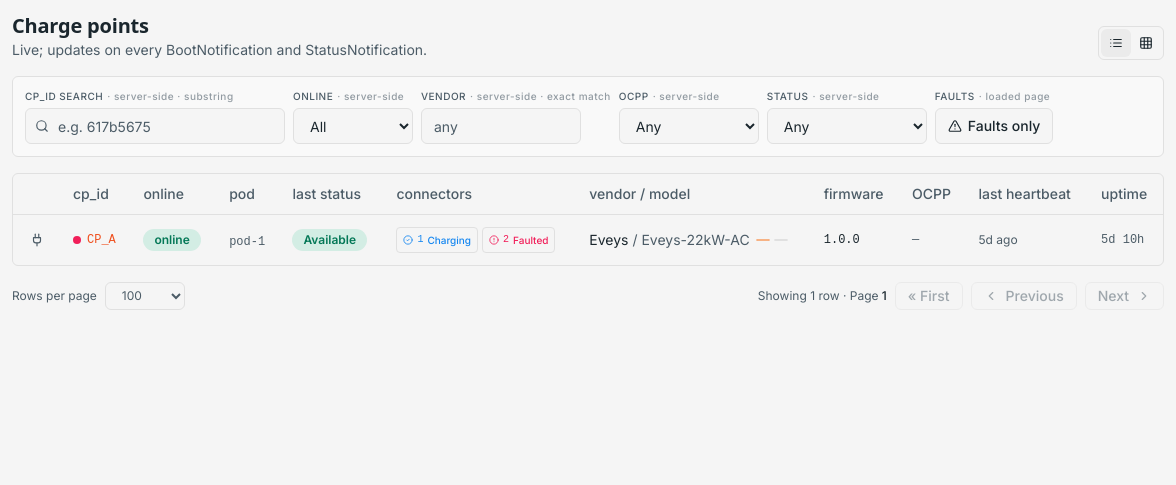
Test: FleetPage — table-row connector drill-down › expanding a row reveals connector detail
Check: the text "GroundFailure" is not shown
The expand button has aria-label "Expand"
Click the button named "expand" at {"x": 37, "y": 240}, box [25,228,49,252]
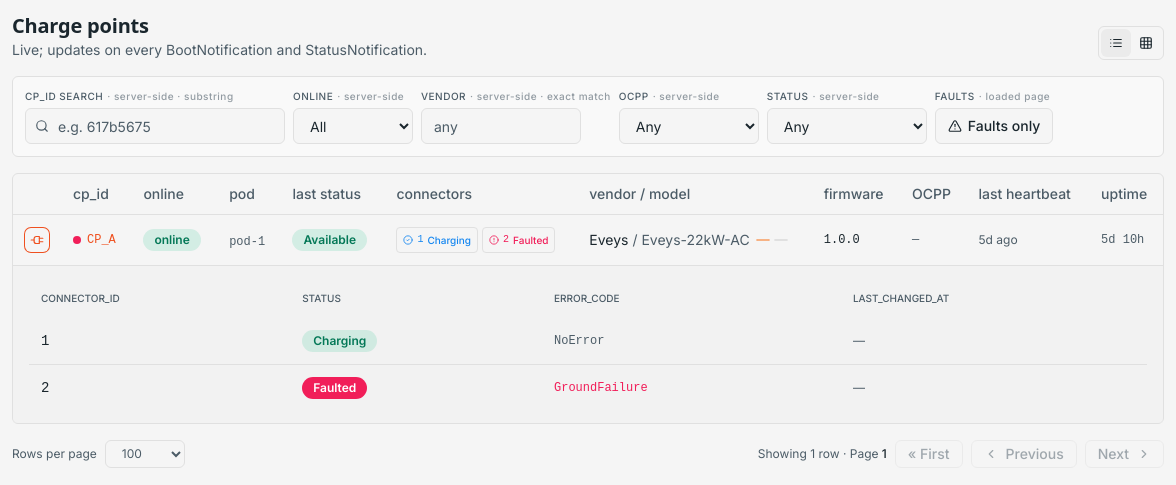
Check: the text "GroundFailure" is shown, box [554,380,648,394]
